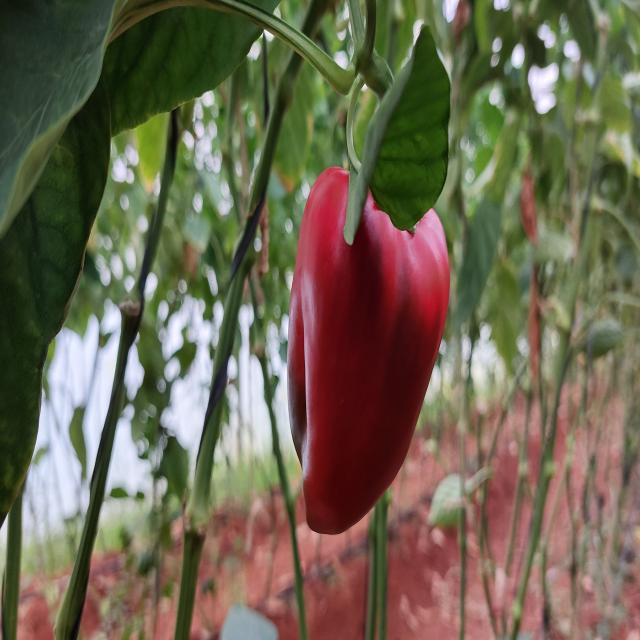Red-Ready-to-Harvest: (289, 164, 454, 524)
